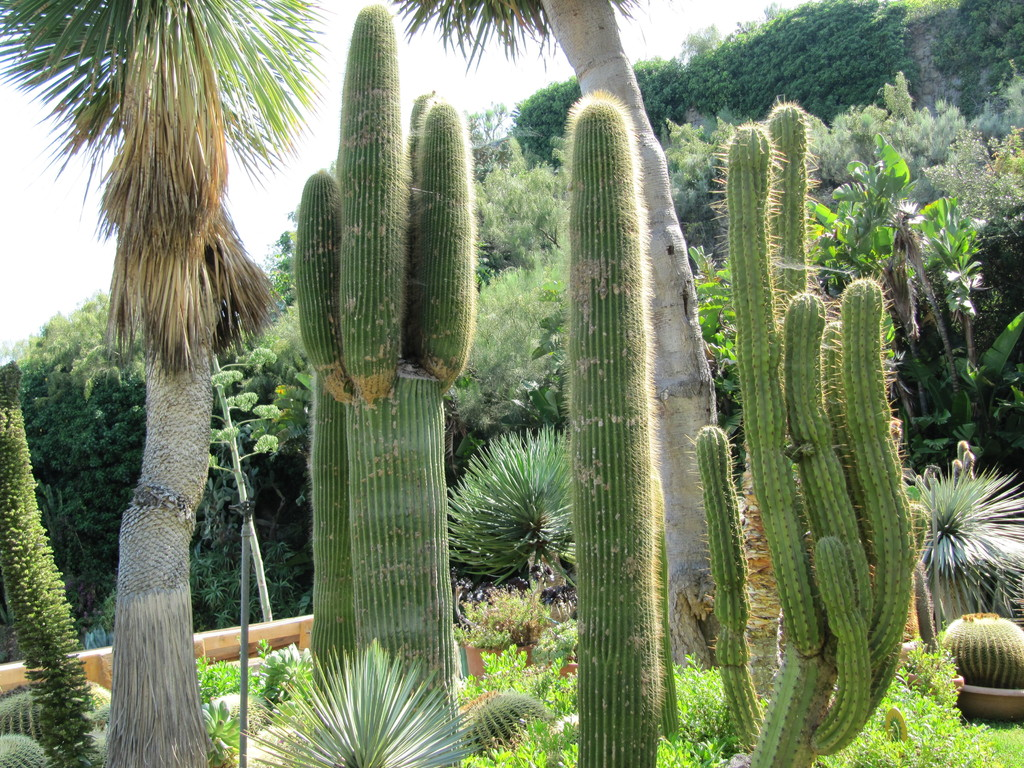Tree: (0, 0, 1024, 664)
